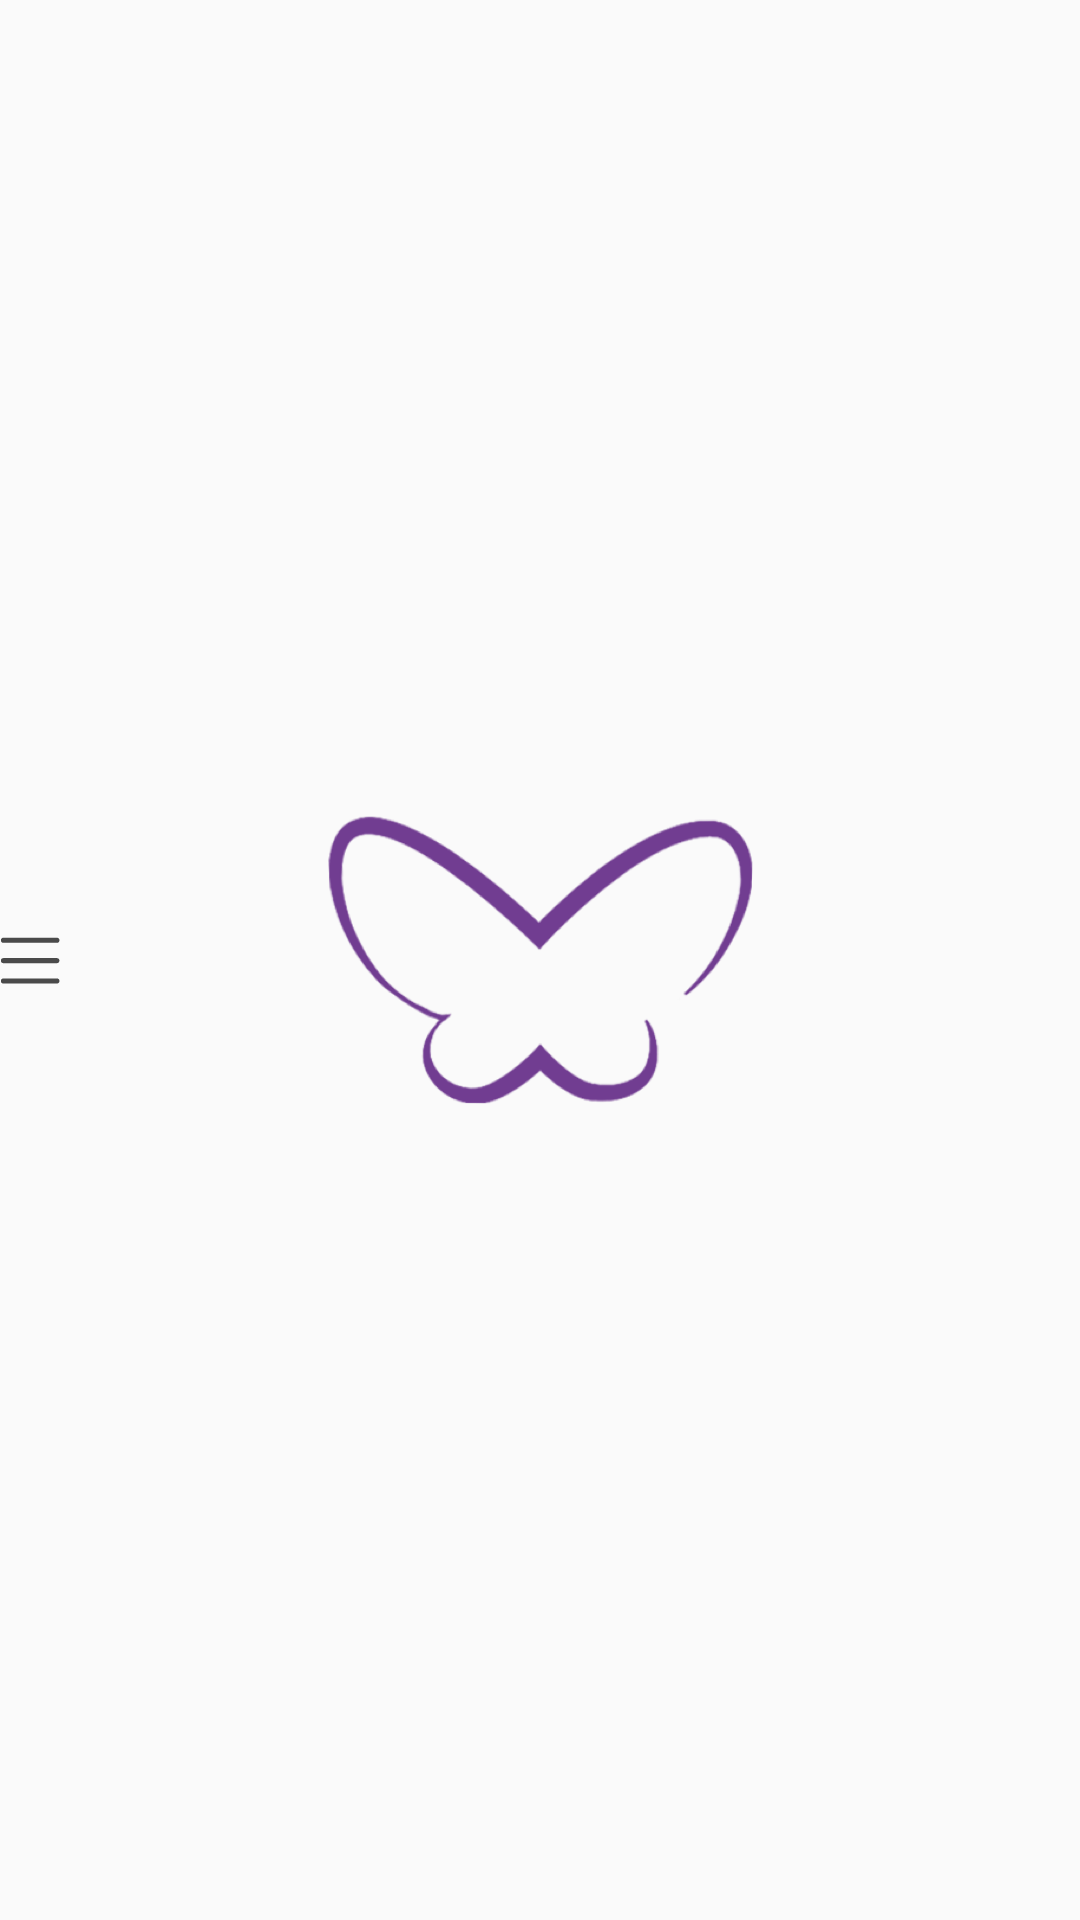

Point at icon controls on the screen. Image size 1080×1920, points as point (x, y).
menu: point (30, 960)
